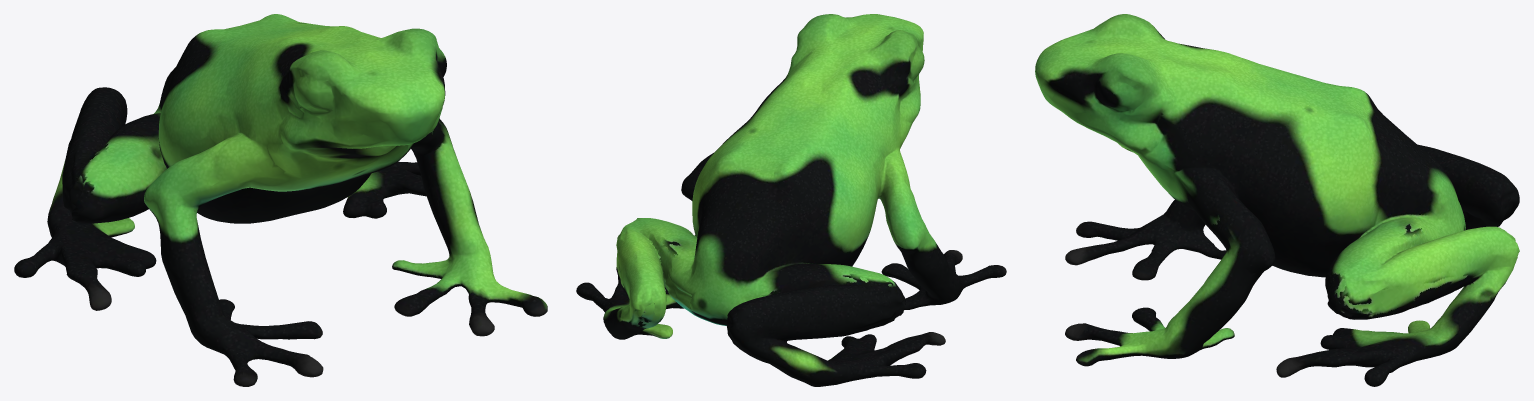
Rendered from auratus.glb.
3 renders of one model, left to right at view 1: azimuth 30°, elevation 25°; view 2: azimuth 150°, elevation 25°; view 3: azimuth 270°, elevation 25°, orthographic. The views are drawn at different scales.
Visible parts, largest first — view 1: auratus; view 2: auratus; view 3: auratus.
Boxes of the visible parts, box(x1,y1,x2,y2) form: auratus: box(14, 14, 547, 386); auratus: box(576, 14, 1006, 386); auratus: box(1035, 14, 1519, 386).
Bounding box in the file's own units: 0.0391 × 0.0254 × 0.0422.
Materials: 1 (1 with a texture image).
